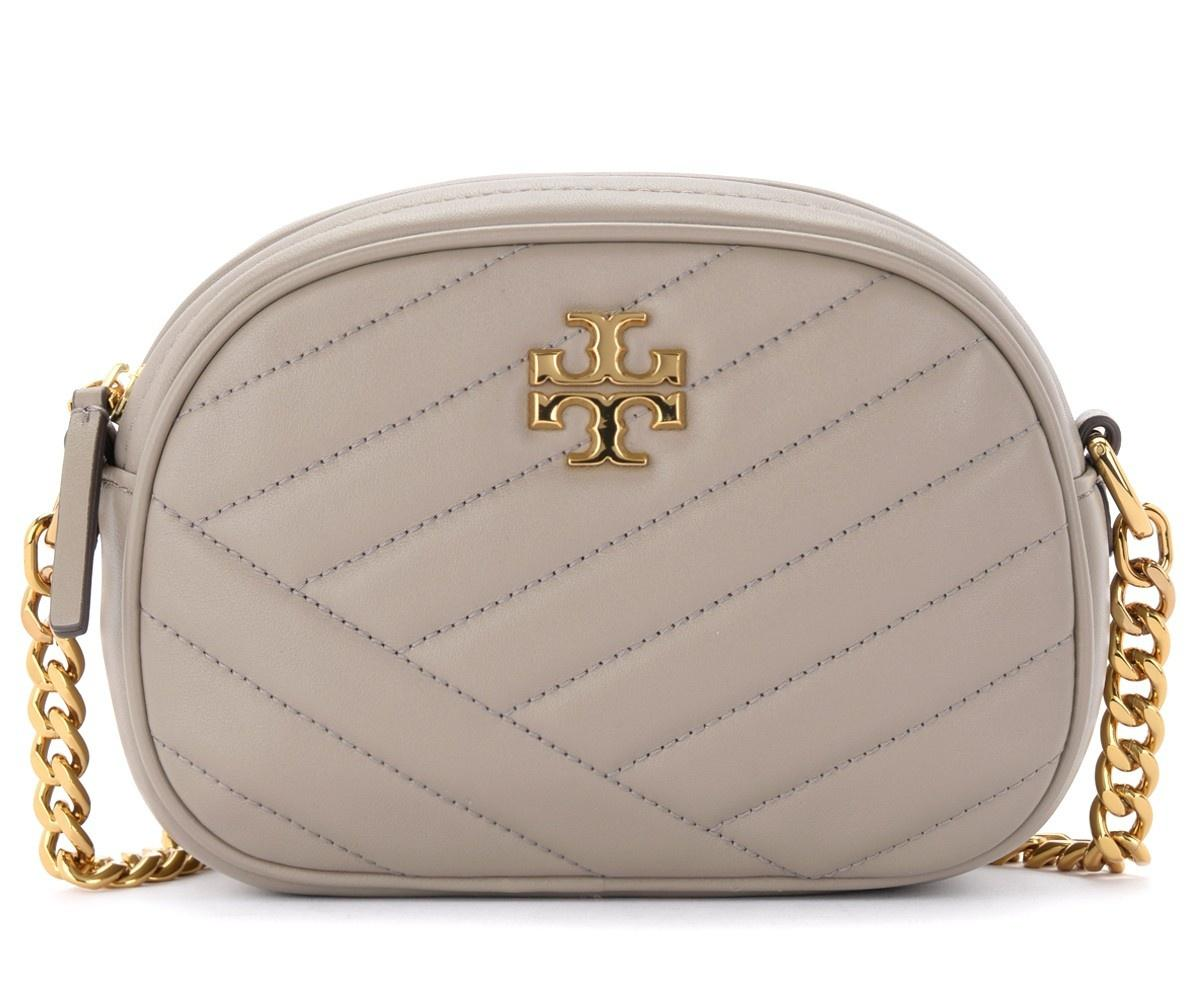TORY-BURCH: (528, 311, 688, 468)
